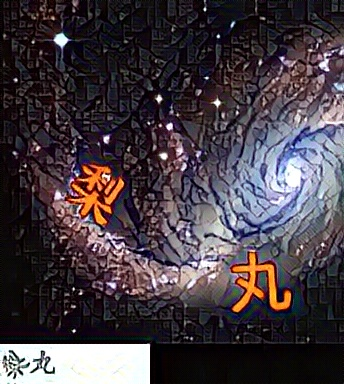C0E6: (65, 161, 127, 225)
CDE8: (232, 248, 294, 312)
